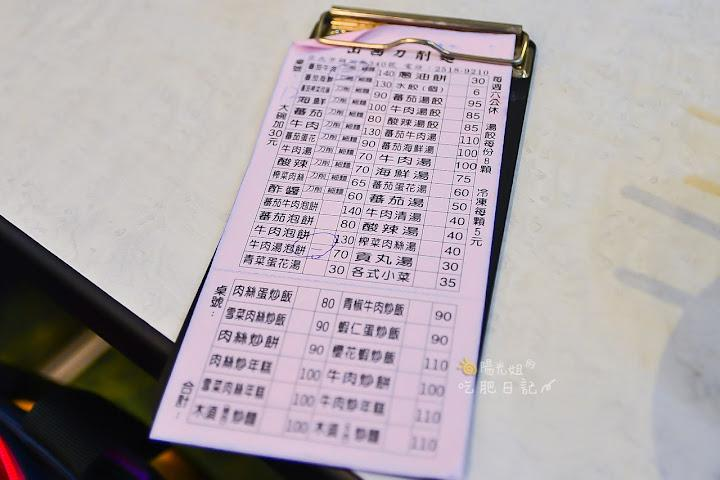paper: (159, 35, 505, 480)
